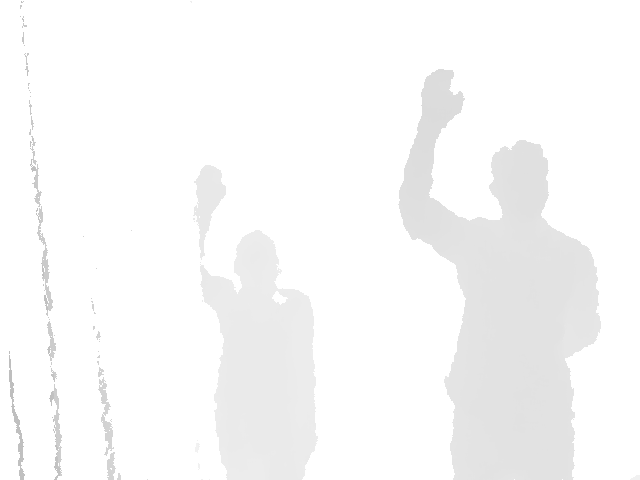hand: (419, 69, 465, 131), (193, 164, 227, 217)
head: (487, 139, 550, 217), (233, 229, 282, 288)
person: (396, 68, 604, 479), (192, 164, 319, 480)
